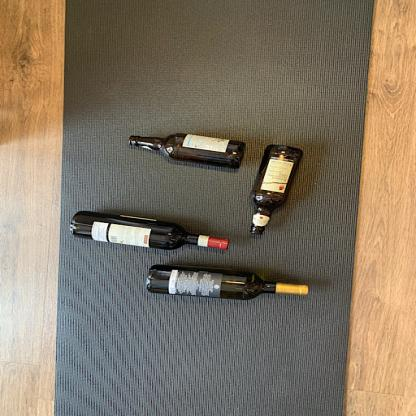trash: (68, 202, 232, 253), (146, 264, 315, 304), (245, 144, 304, 236), (123, 130, 247, 170)
